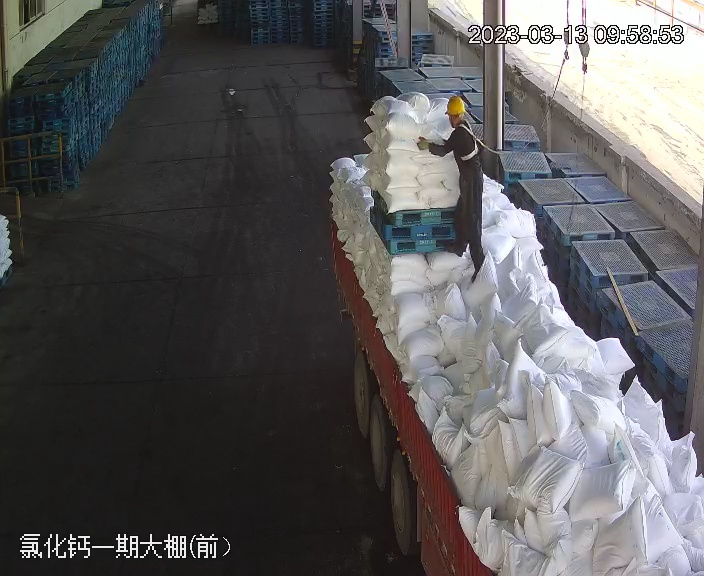belt: (454, 119, 486, 161)
head: (440, 95, 480, 144)
helmet: (444, 95, 466, 115)
people: (418, 96, 490, 278)
truck: (306, 91, 697, 576)
